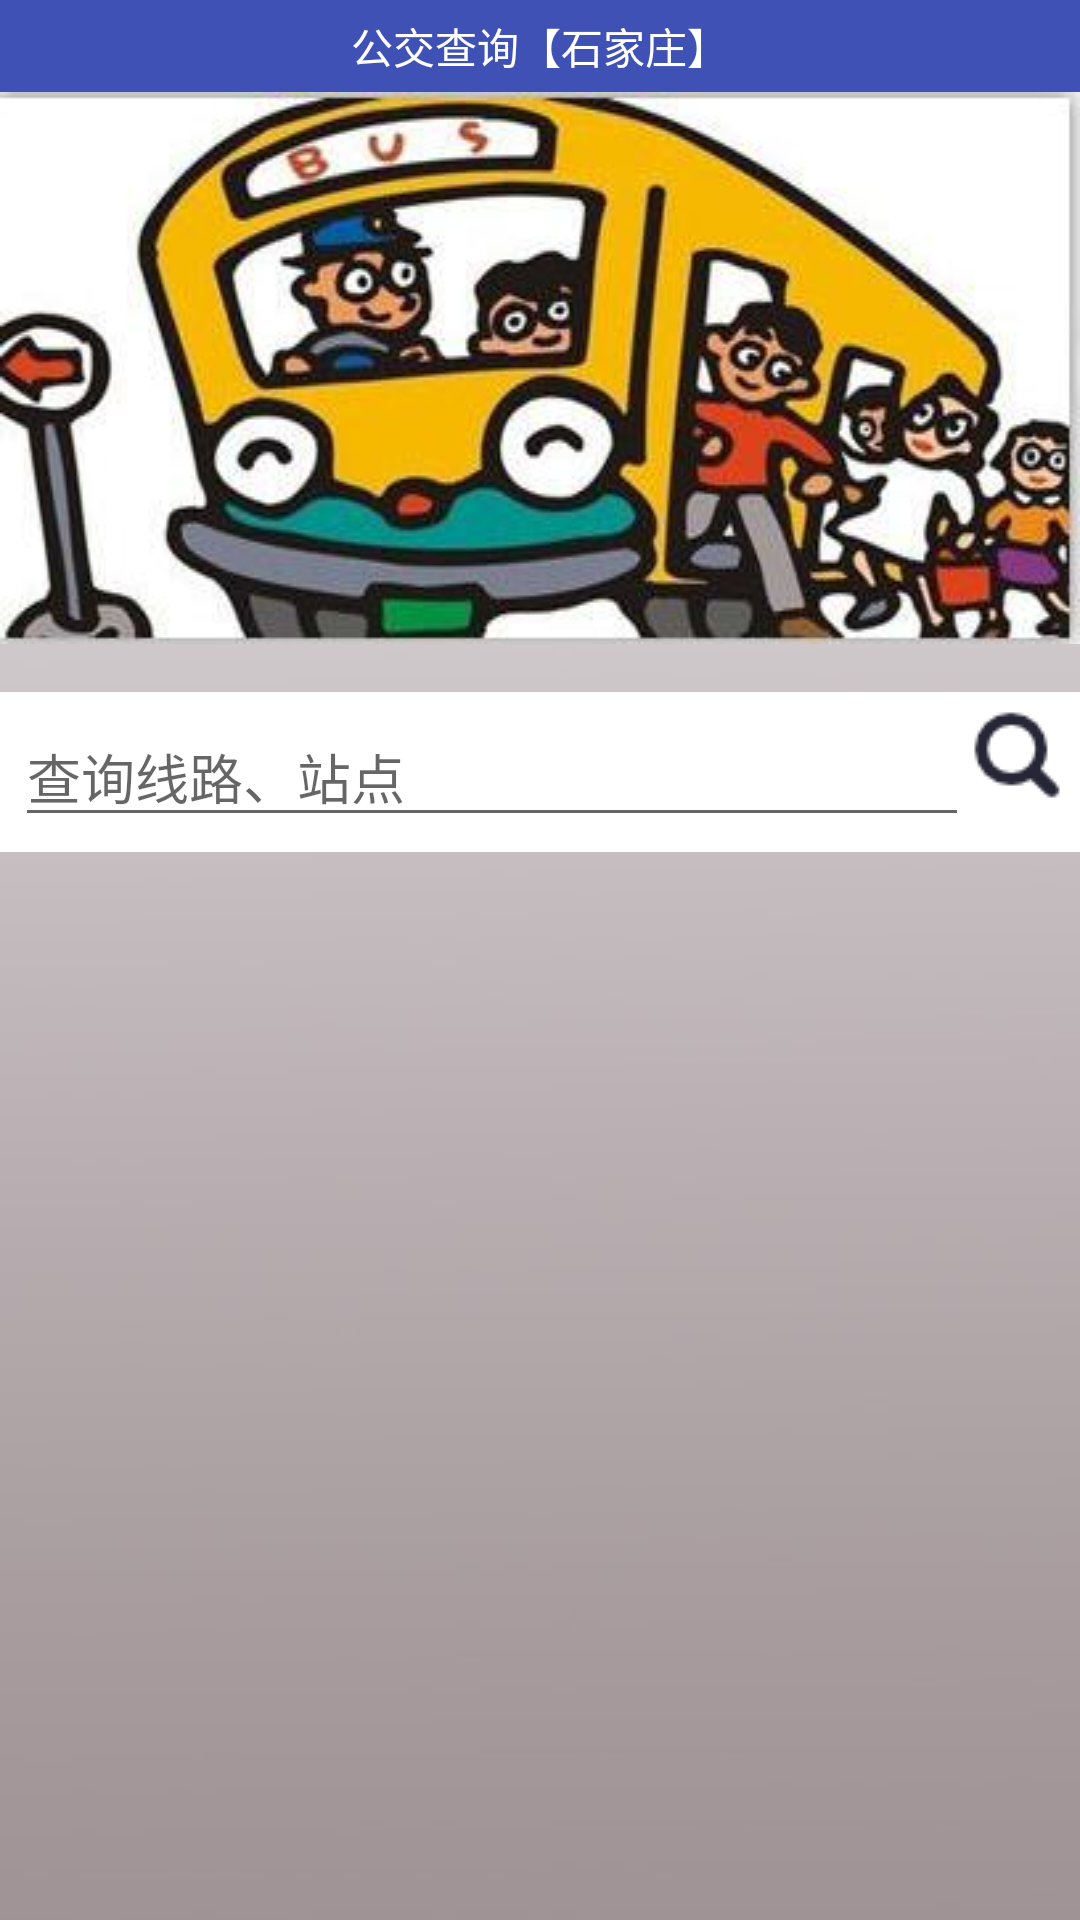

Icon click points for this 1080 x 1920 phone screenshot, format (x,y):
search: (1017,755)
